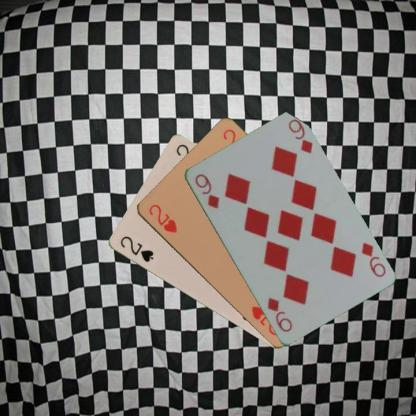2h: (146, 202, 178, 235)
2s: (117, 233, 155, 263)
9d: (192, 171, 221, 210), (358, 240, 387, 278)
